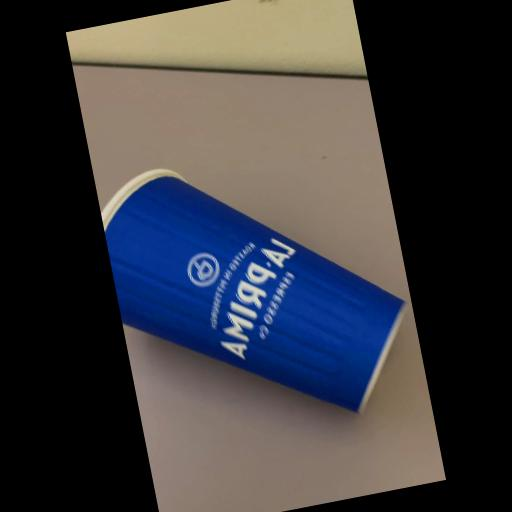lp_paper_cup: (96, 129, 426, 456)
